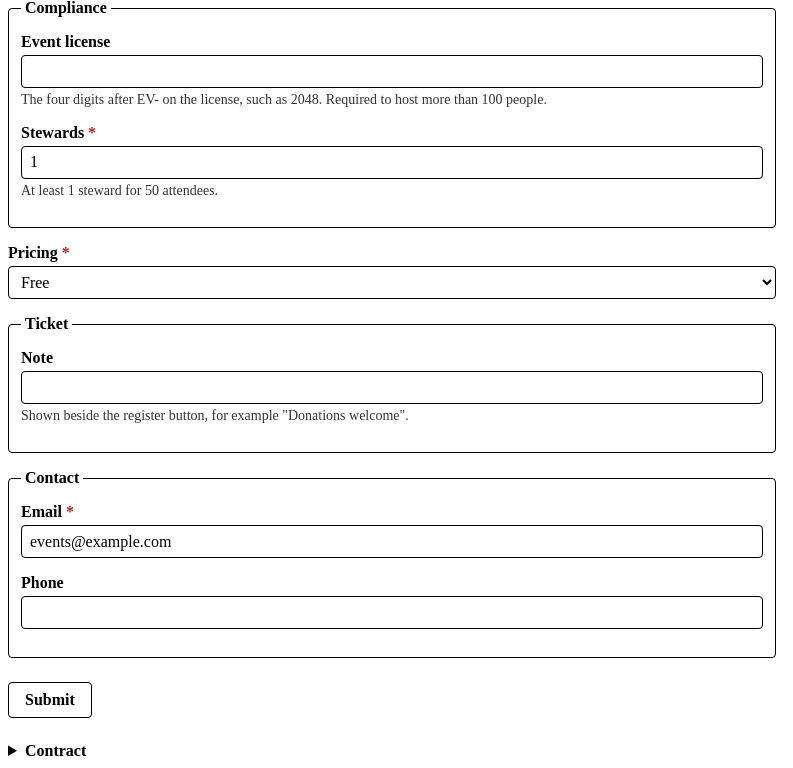
Test case: the React form of example 3 › shows a refusal inside the contact on its email field, its pointer read as a dotted path
(page scrolled)
Replace the text in the field labelled "Email*" with "nobody" at (392, 542), box [21, 525, 763, 558]
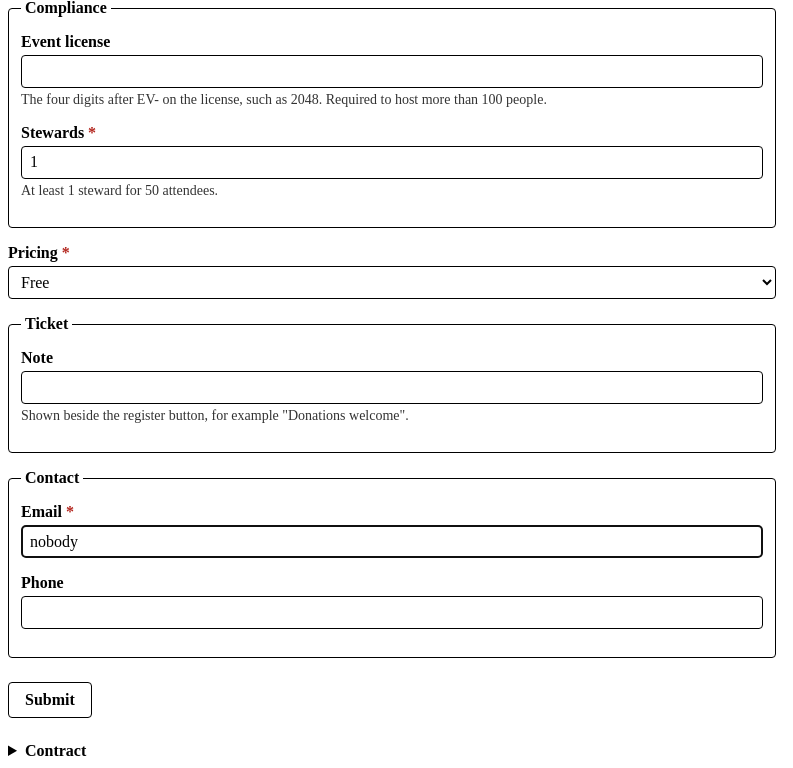
Click the button "Submit" at (50, 700), box [8, 682, 92, 718]
(page scrolled)
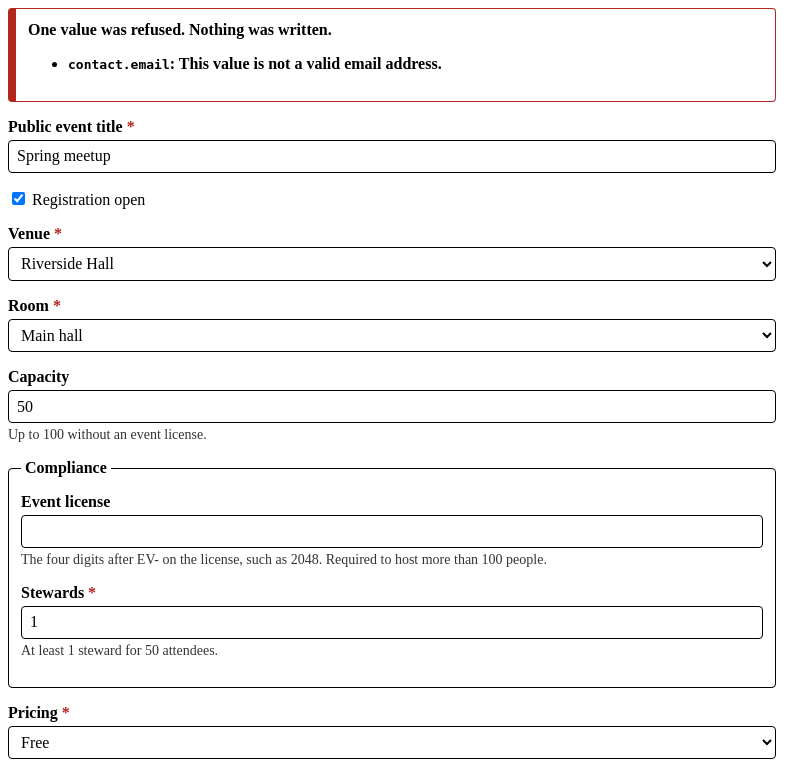
Check: the message shows "contact.email: This value is not a valid email address.", box [8, 8, 776, 102]
